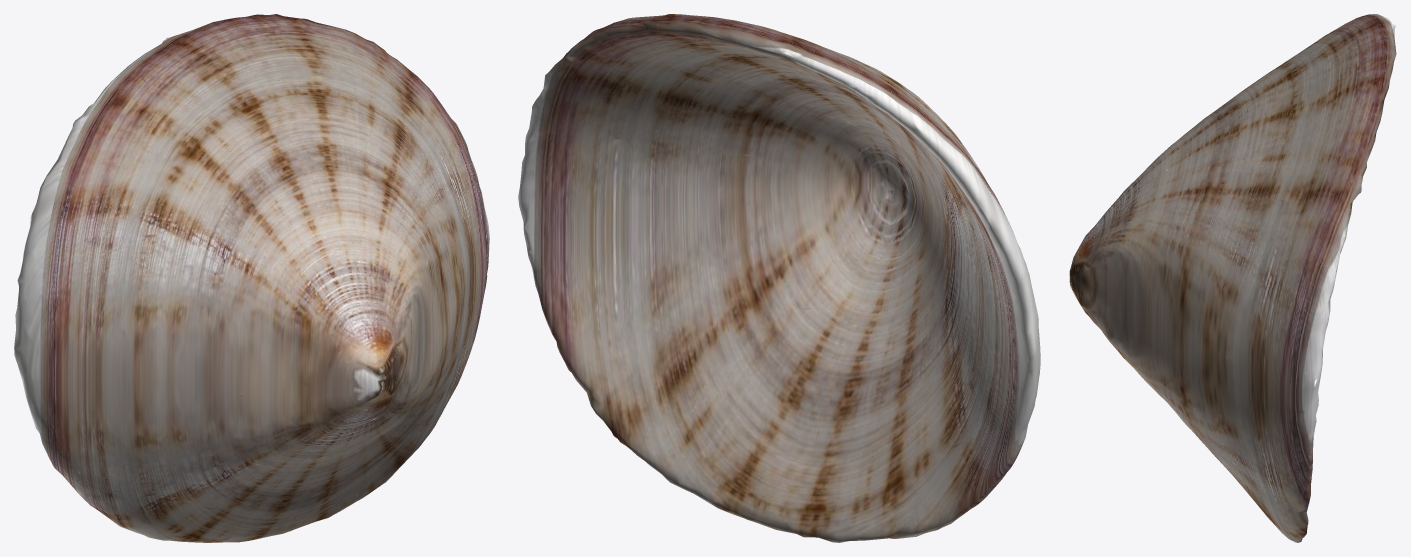
Rendered from fish_gomphina.glb.
3 views of the same model, side by side, from view 1: azimuth 30°, elevation 25°; view 2: azimuth 150°, elevation 25°; view 3: azimuth 270°, elevation 25° (orthographic). The views are drawn at different scales.
Parts seen in each view (by area): view 1: orient; view 2: orient; view 3: orient.
Part boxes in pixels (x1,y1,x2,y2): orient: (14, 14, 489, 542); orient: (518, 14, 1040, 542); orient: (1069, 14, 1396, 542).
Size of the model in its own units: 1.98 by 1.95 by 1.22.
Materials: 1 (1 with a texture image).
